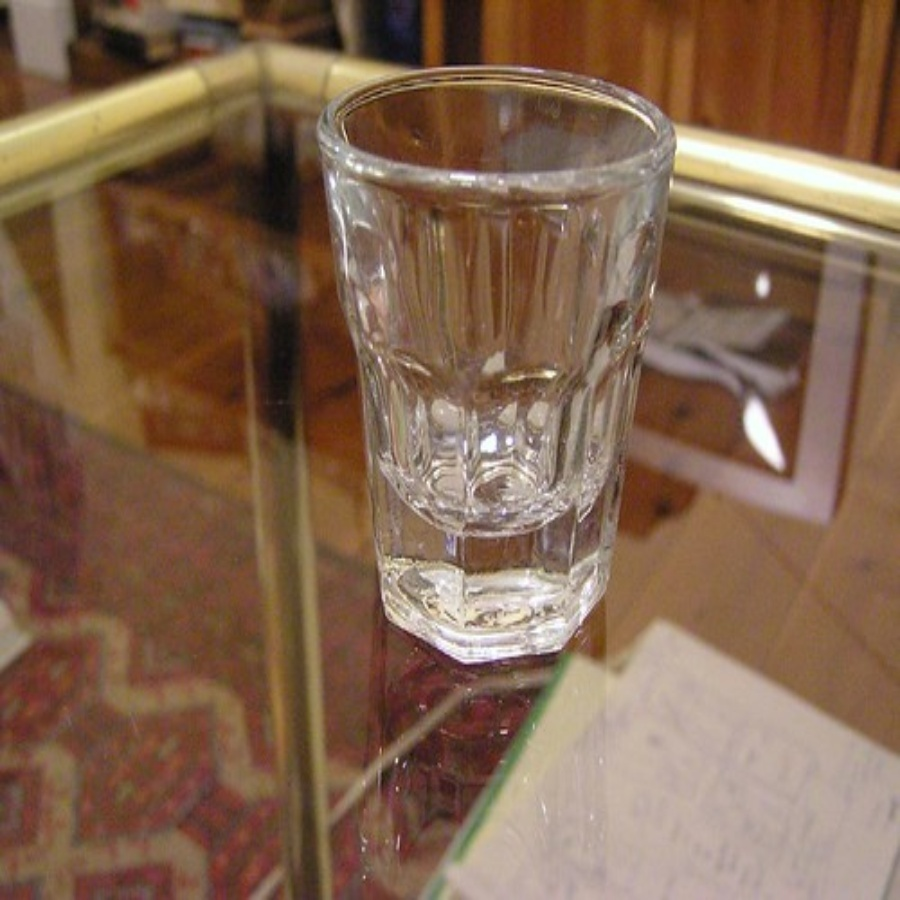whiskey: (311, 89, 690, 646)
